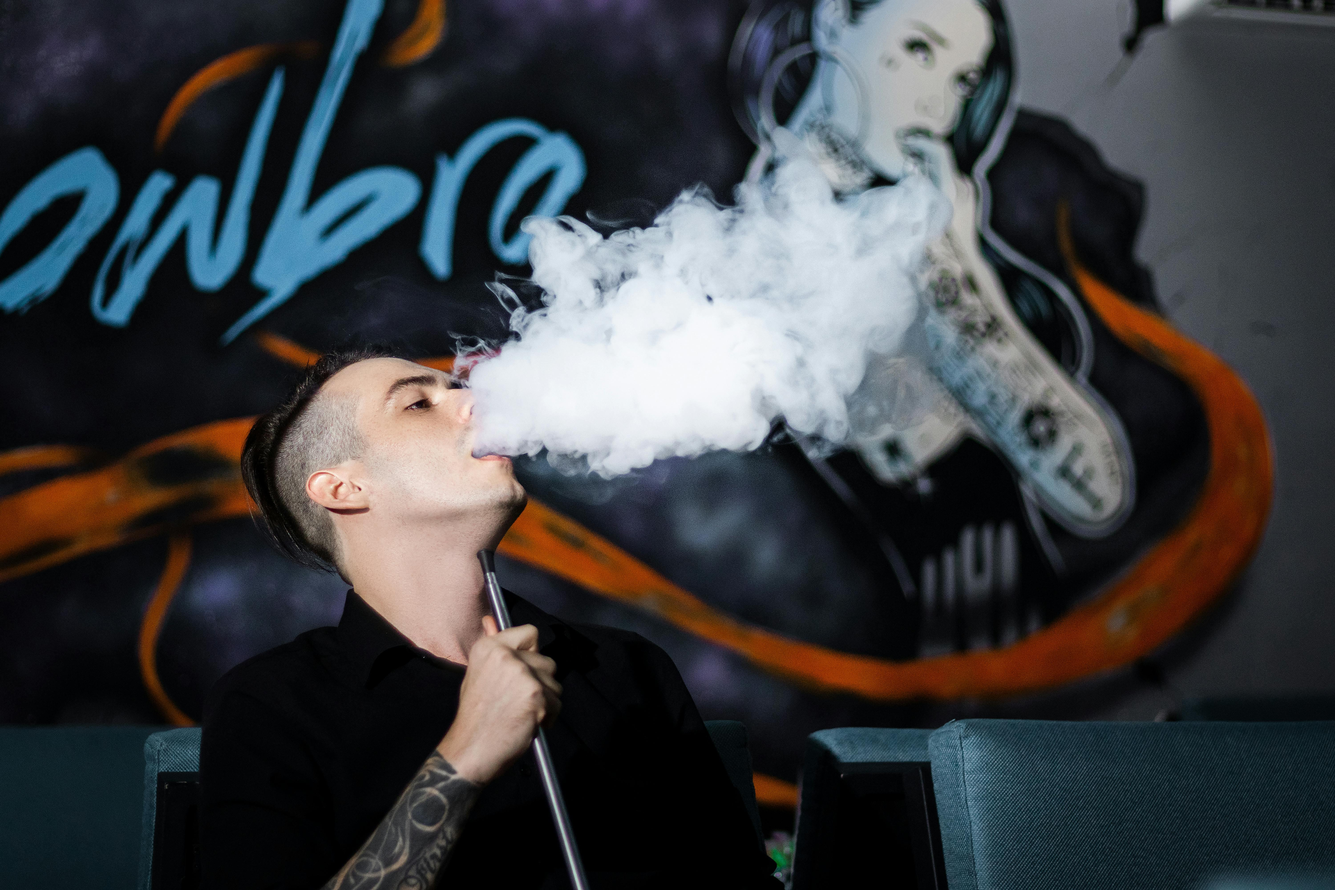smoker: (183, 138, 1005, 671)
